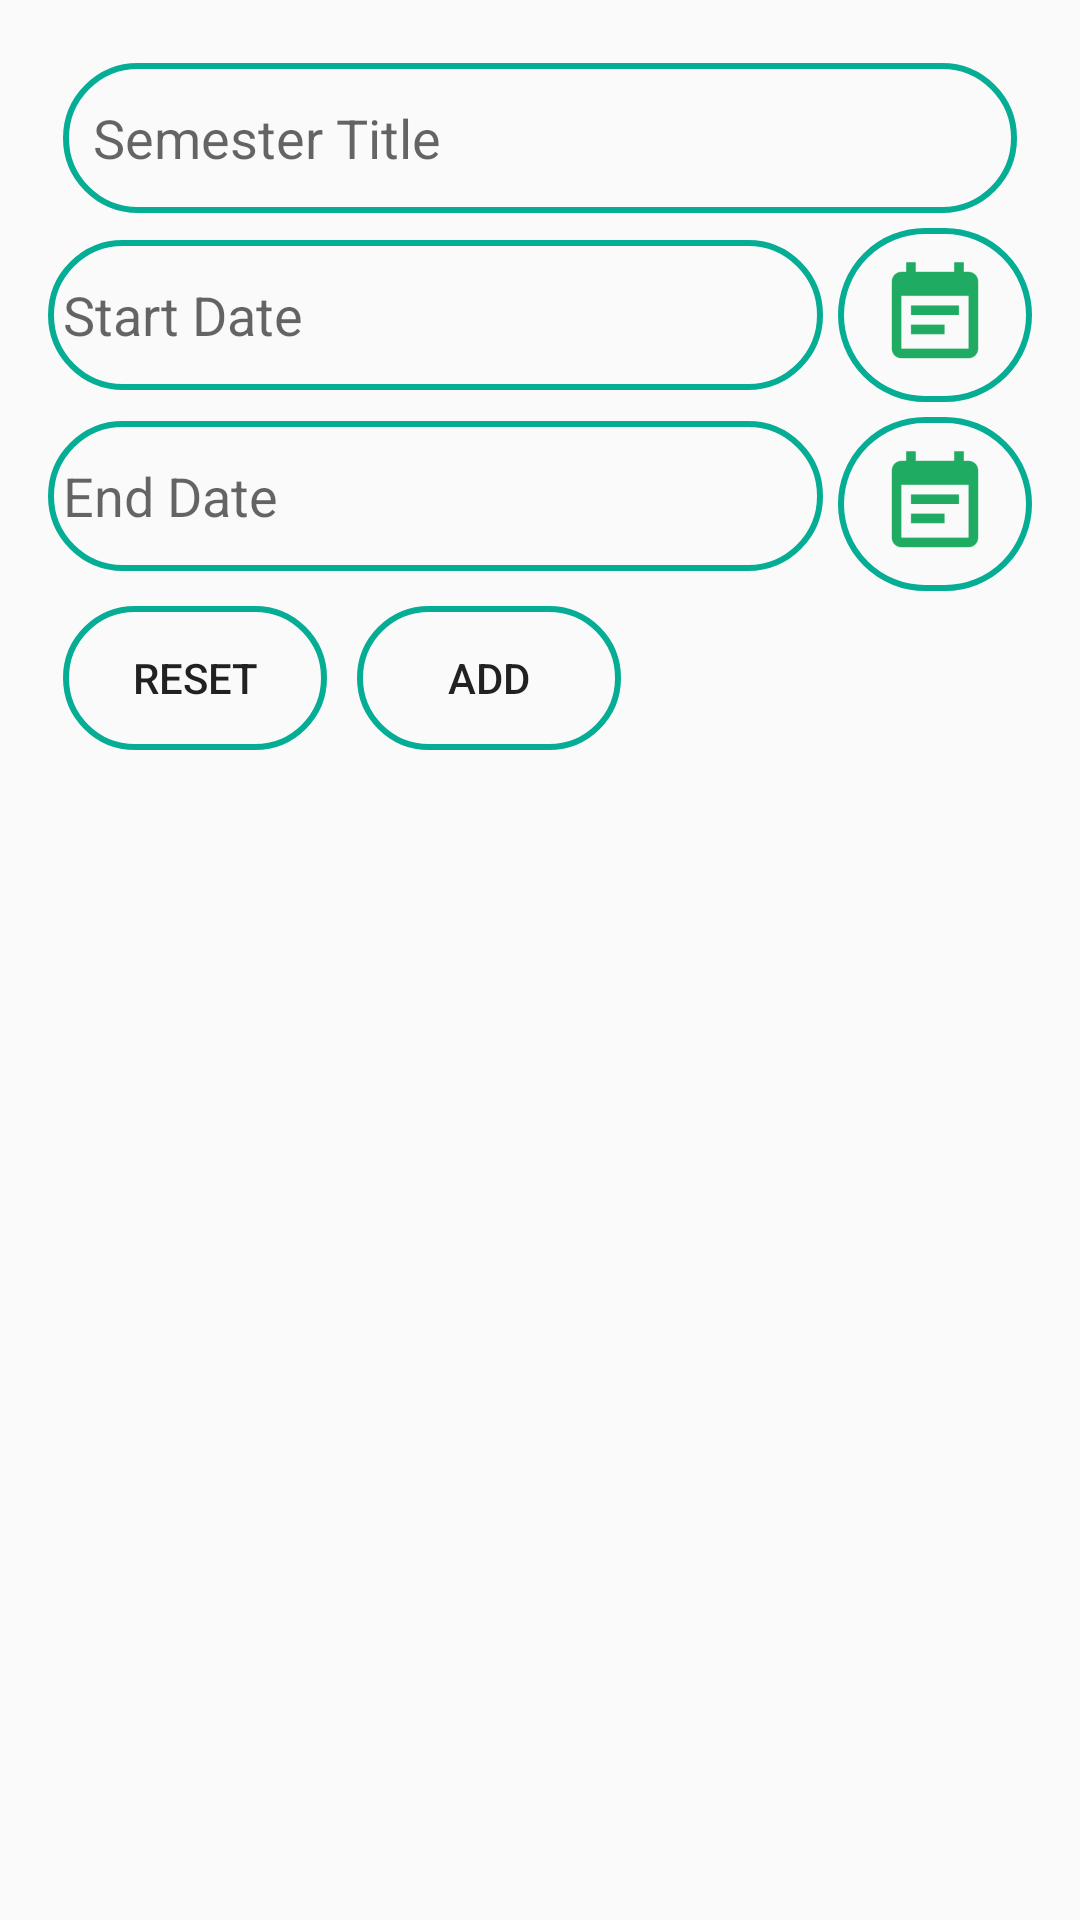

Icon bounding boxes for this 1080w x 1920h phone screenshot, format [x1, y1, x2, y2]:
datepicker: [838, 228, 1032, 402], [838, 417, 1032, 591]
